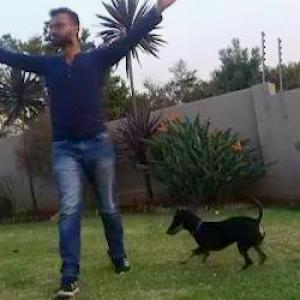takeoff: (1, 0, 166, 289)
